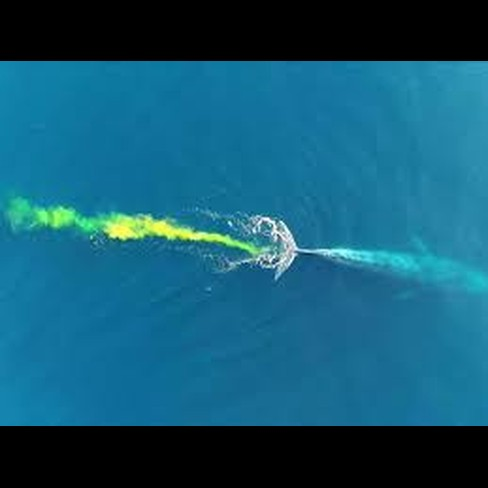bluewhale: (268, 218, 487, 310)
